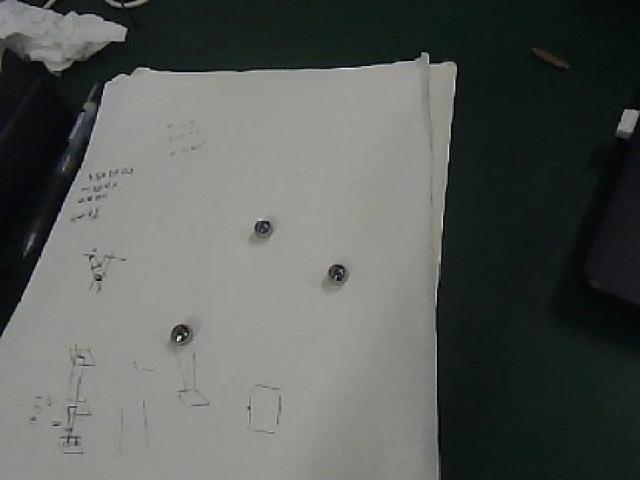steel-ball: (316, 246, 358, 289), (148, 311, 194, 349), (246, 203, 280, 246)
